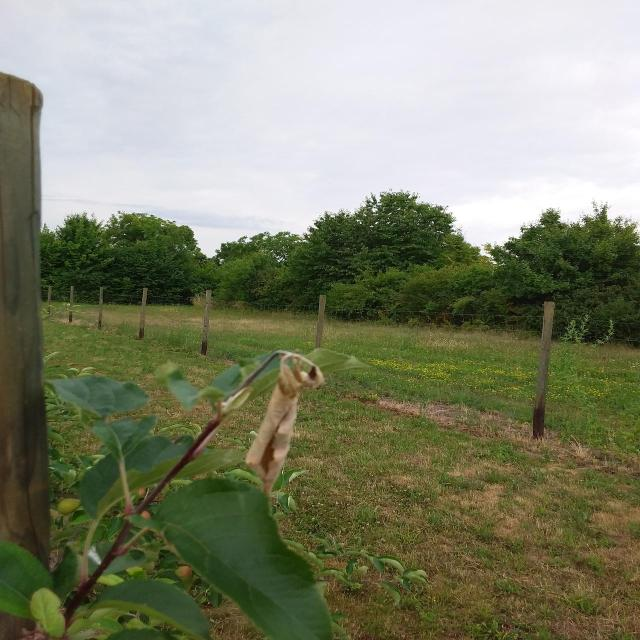-FireBlight-: (250, 317, 308, 515)
